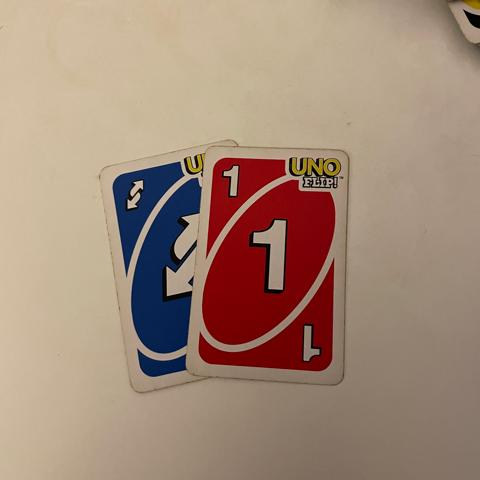lbluerevers-20: (115, 170, 159, 218)
lred-1: (213, 156, 253, 207)
